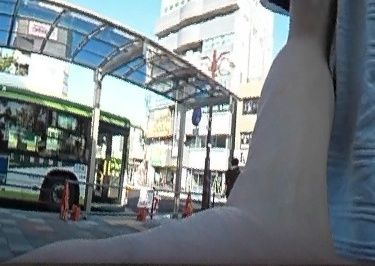person: (222, 156, 239, 197)
